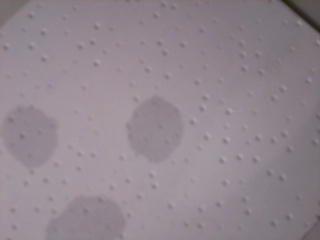Water_detected: (127, 101, 182, 160), (49, 200, 109, 240), (16, 116, 57, 163)
